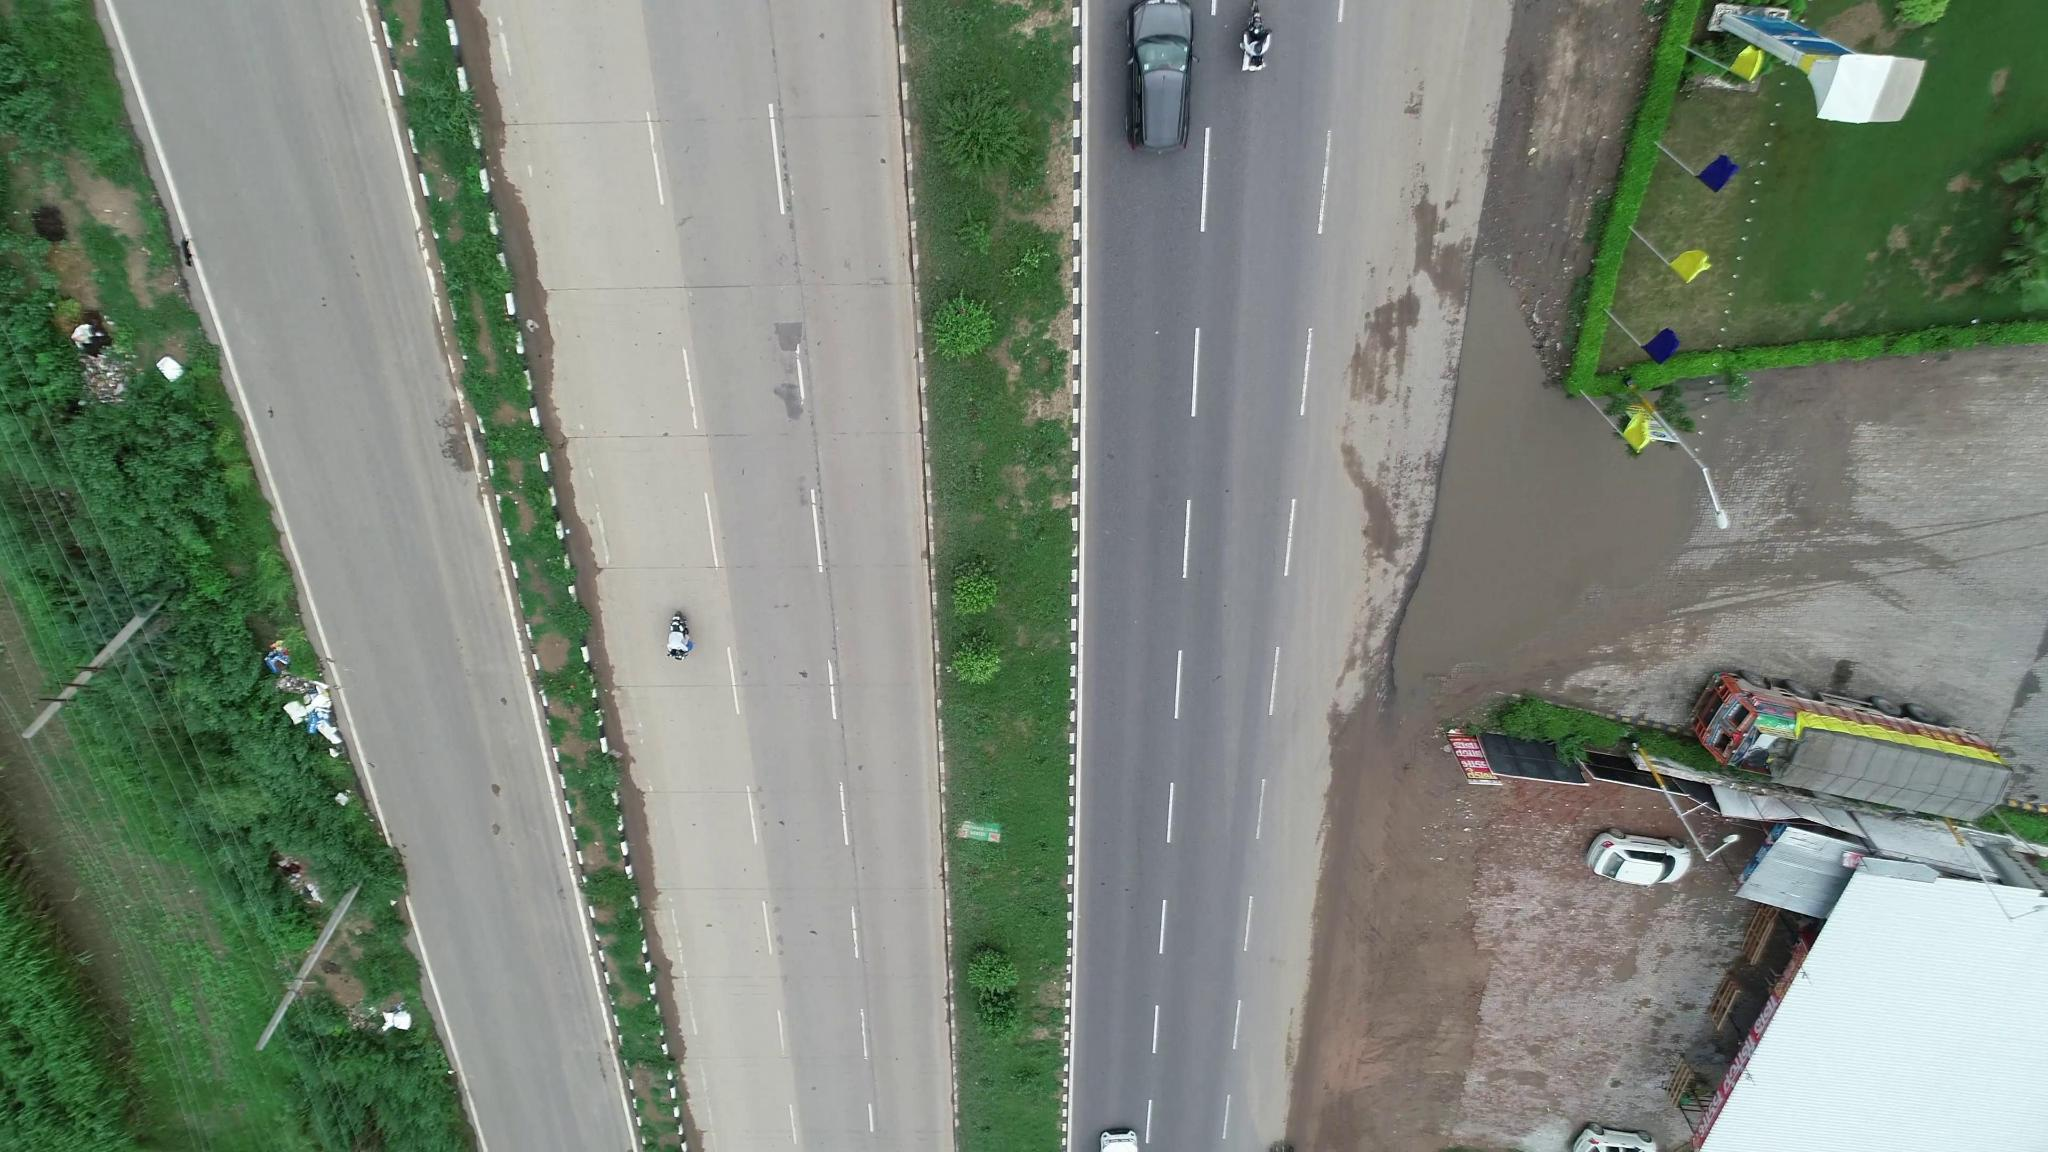Road_side_garbage: (264, 650, 353, 753)
